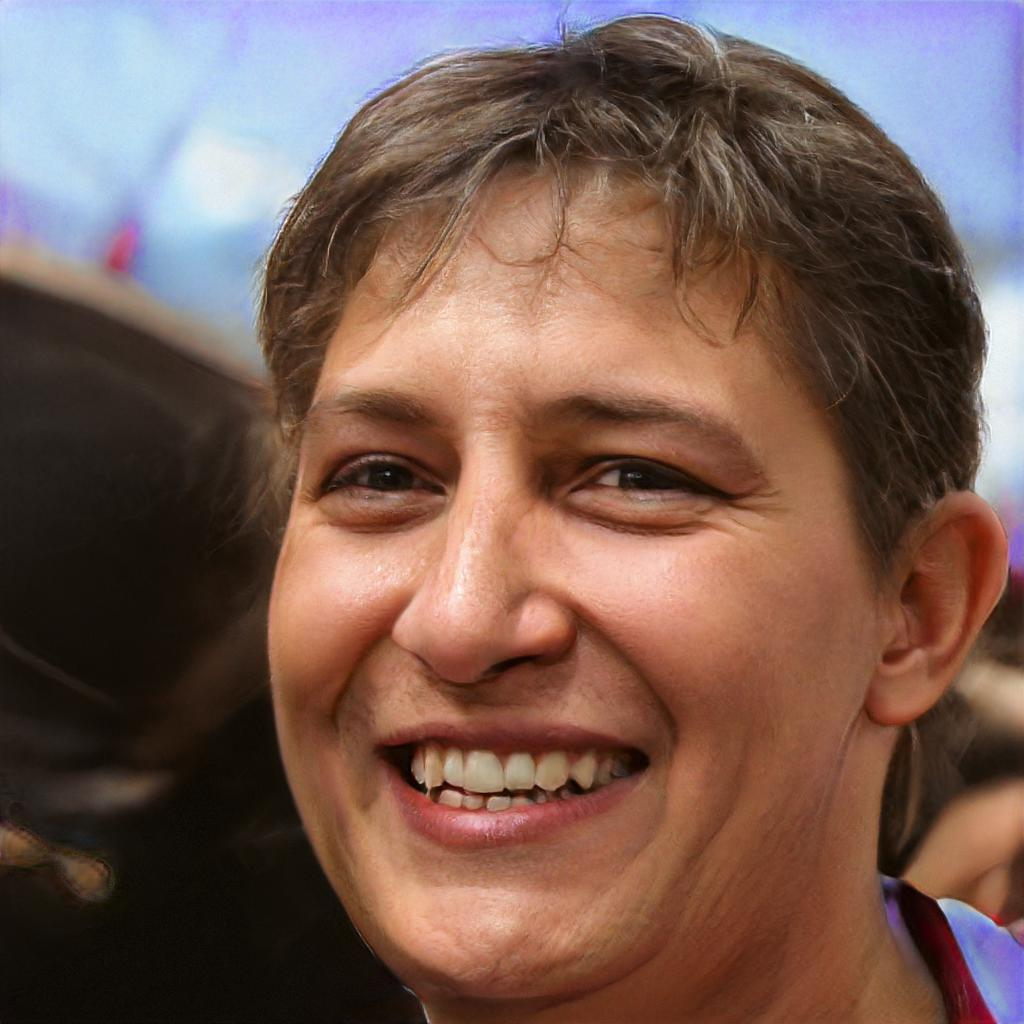face: (267, 160, 871, 996)
